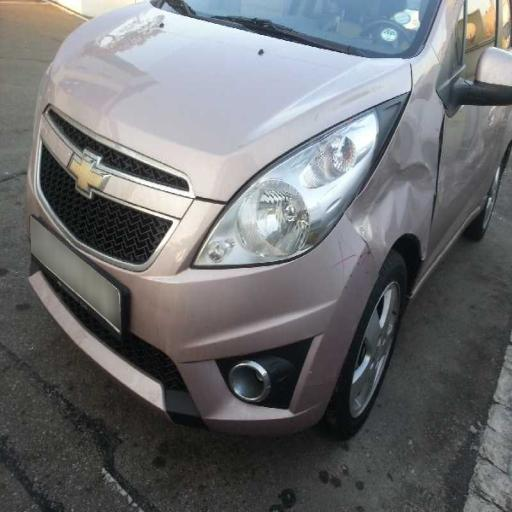dent: (324, 131, 448, 274)
